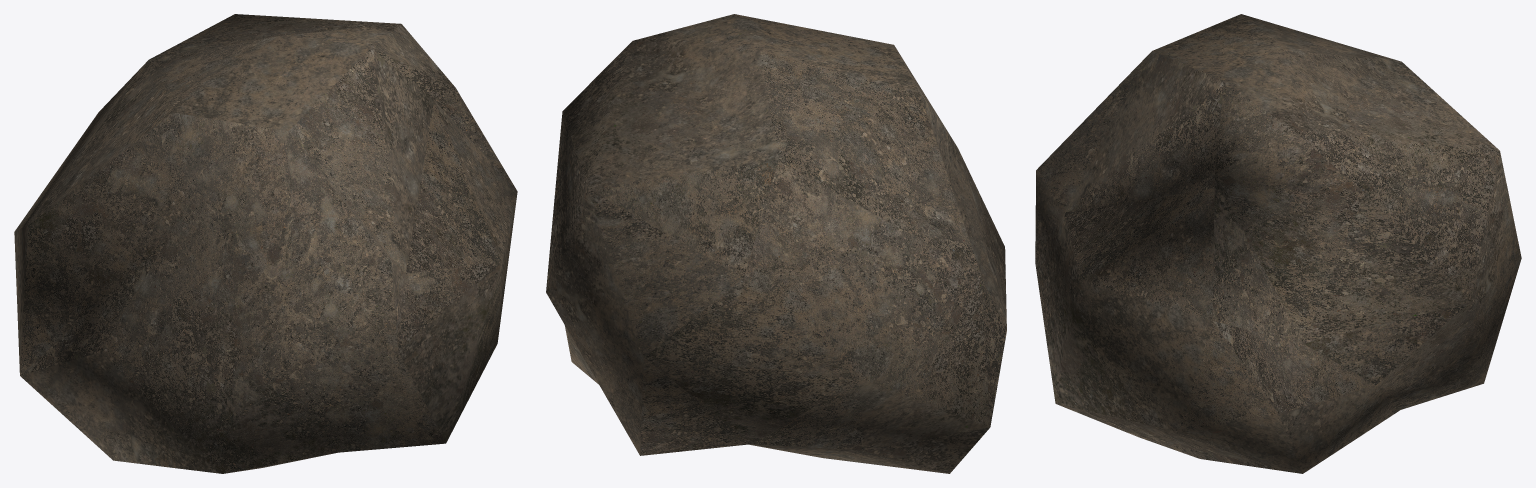
File: rock3.fbx
3 renders of one model, left to right at view 1: azimuth 30°, elevation 25°; view 2: azimuth 150°, elevation 25°; view 3: azimuth 270°, elevation 25°, orthographic. The views are drawn at different scales.
Parts seen in each view (by area): view 1: Icosphere; view 2: Icosphere; view 3: Icosphere.
Part boxes in pixels (<box>): Icosphere: <box>14,14,517,473</box>; Icosphere: <box>546,14,1006,473</box>; Icosphere: <box>1035,14,1521,473</box>.
Bounding box in the file's own units: 210 × 175 × 199.
